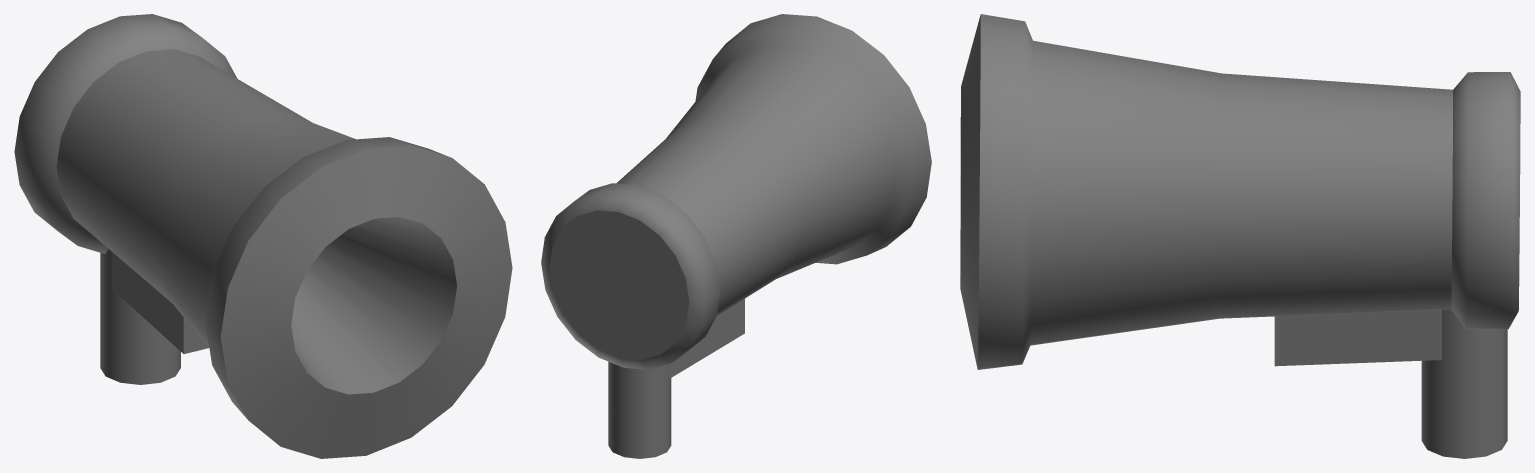
The model's file is weapon_dalnik.fbx.
3 views of the same model, side by side, from view 1: azimuth 30°, elevation 25°; view 2: azimuth 150°, elevation 25°; view 3: azimuth 270°, elevation 25° (orthographic). The views are drawn at different scales.
Visible parts, largest first — view 1: Dalnik_weapon; view 2: Dalnik_weapon; view 3: Dalnik_weapon.
Boxes of the visible parts, left/top/right/bottom form: Dalnik_weapon: left=14, top=14, right=512, bottom=458; Dalnik_weapon: left=541, top=14, right=931, bottom=458; Dalnik_weapon: left=960, top=14, right=1520, bottom=458.
Size of the model in its own units: 5.42 by 6.84 by 8.46.
